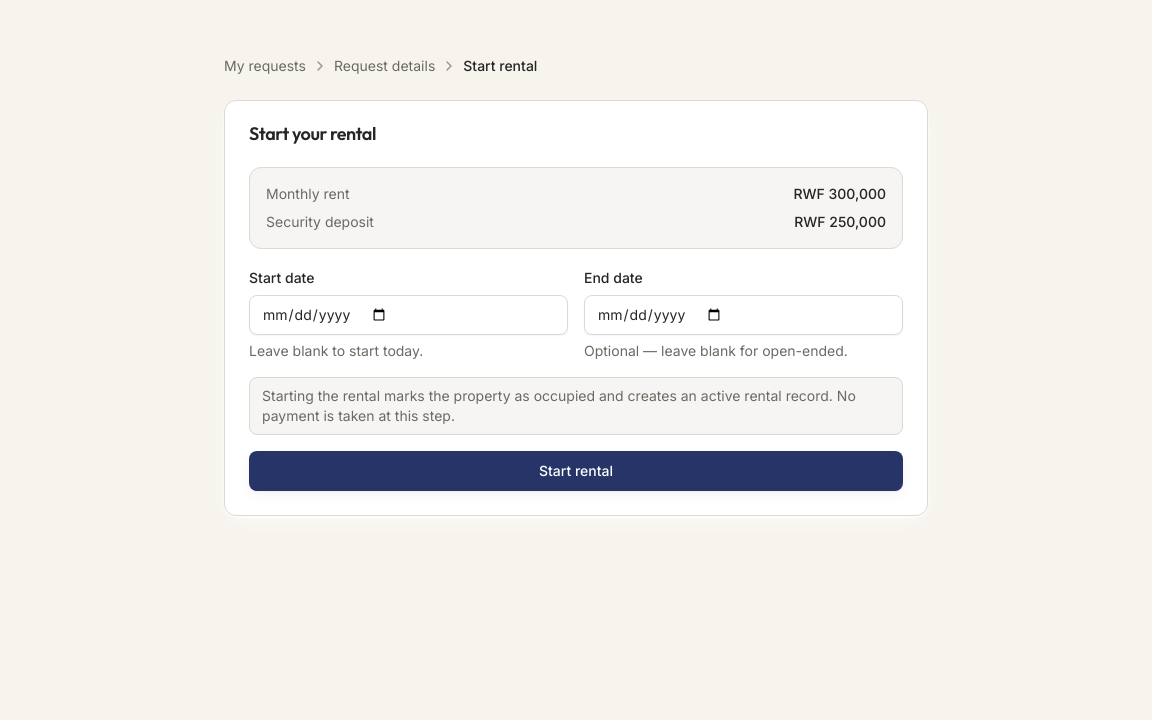
Test: rental conversion › submits a correct POST (no identity/money) and shows ACTIVE on success
Click the button "Start rental" at (576, 471), box [249,451,903,491]
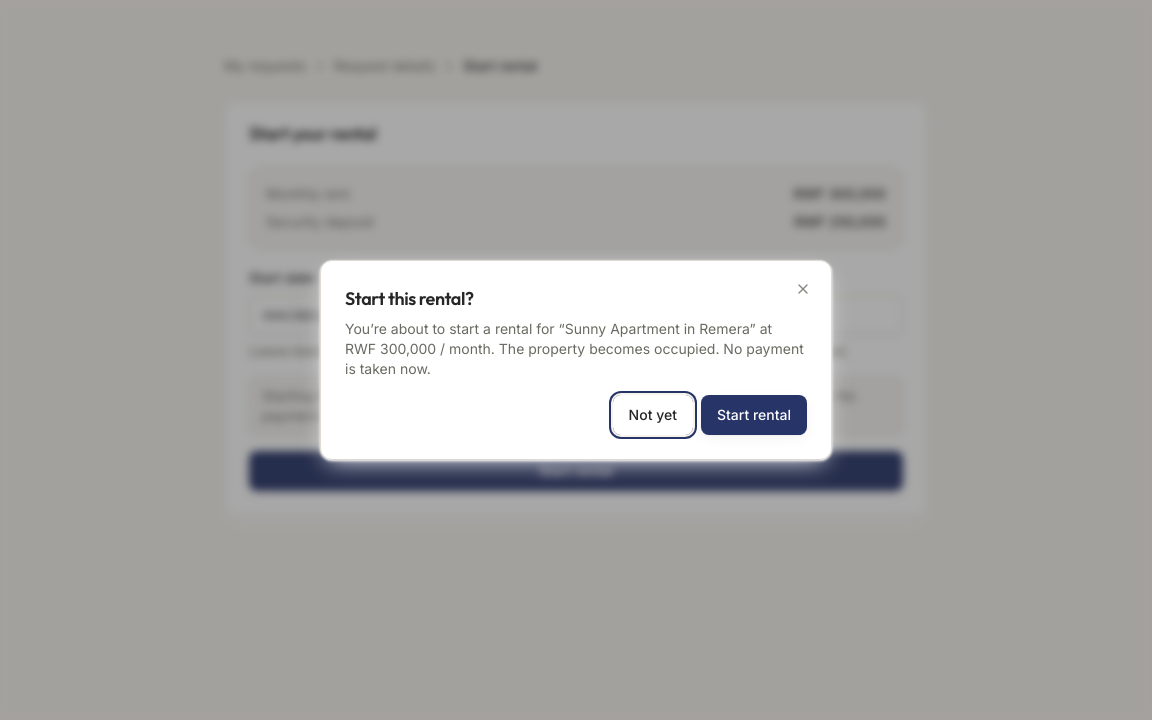
Click the button "Start rental" at (754, 415), box [701,395,807,435]
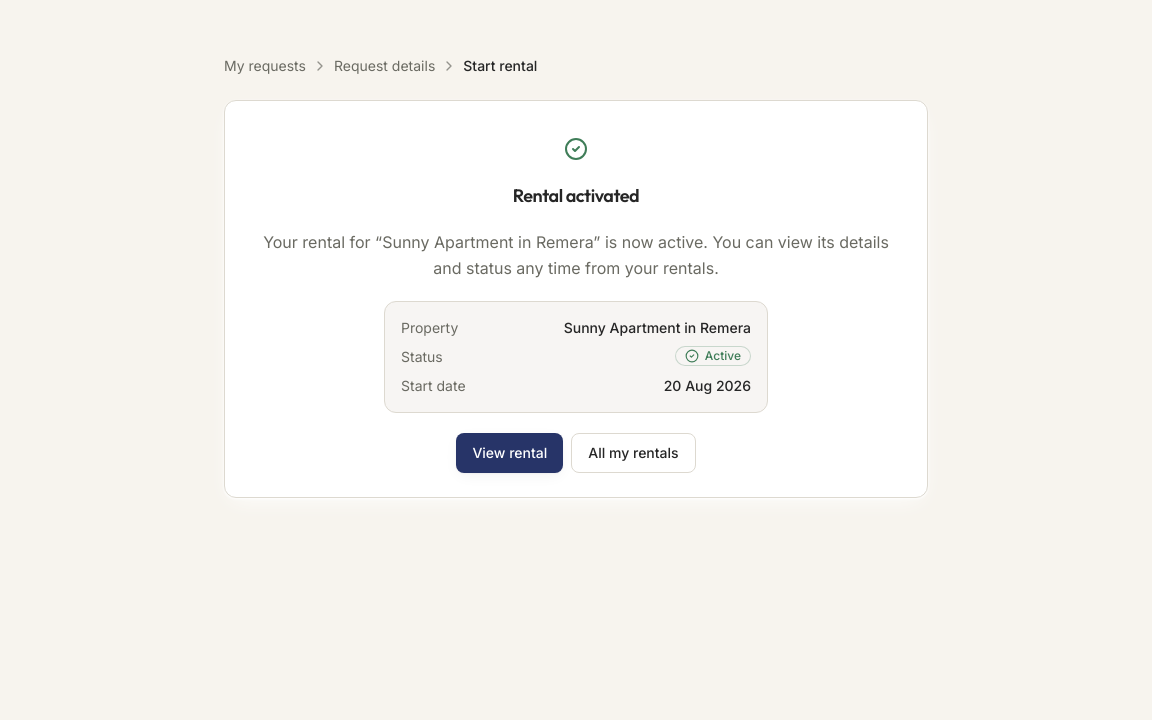
Expected: the heading "Rental activated" is shown, [513,187,639,205]
Expected: the text "Active" is shown, [675,346,751,366]
